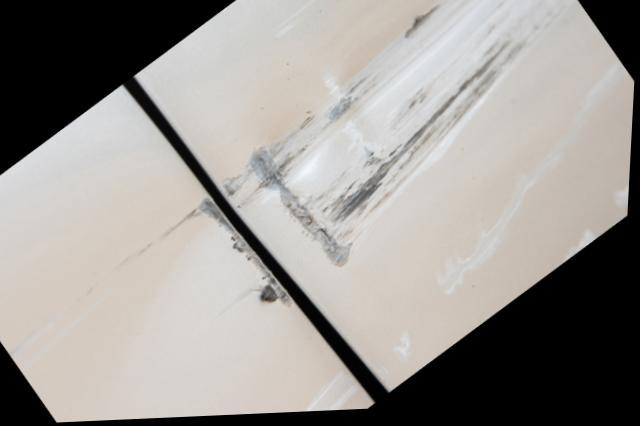scratch: (224, 0, 580, 280), (398, 62, 629, 372), (9, 196, 301, 365), (539, 183, 632, 289), (304, 372, 365, 415)
